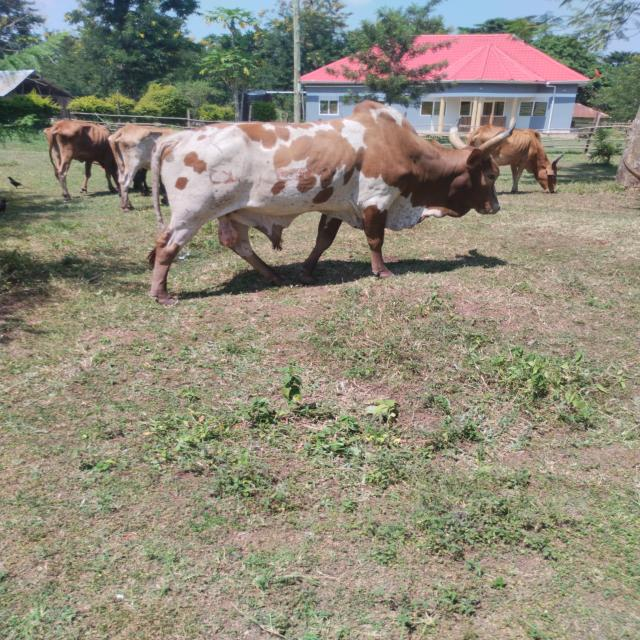Right: (149, 101, 515, 305)
